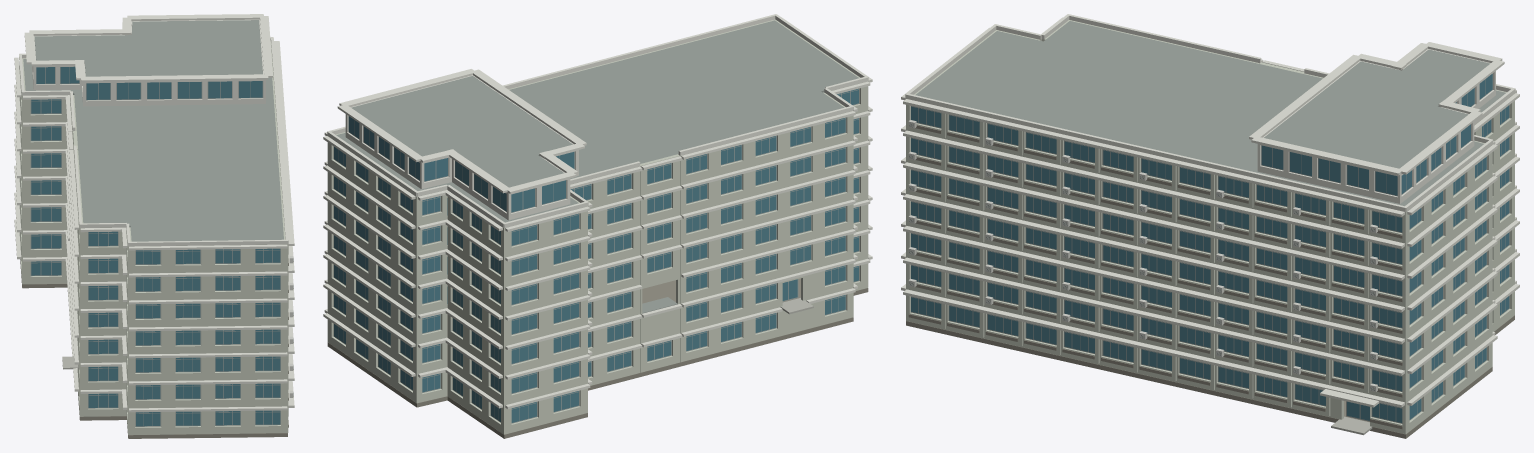
3 views of the same model, side by side, from view 1: azimuth 30°, elevation 25°; view 2: azimuth 150°, elevation 25°; view 3: azimuth 270°, elevation 25° (orthographic). The views are drawn at different scales.
Visible parts, largest first — view 1: main__roof, main__pier, main__white, main__glass, main__frame, main__spandrel; view 2: main__pier, main__roof, main__white, main__glass, main__frame, main__spandrel; view 3: main__pier, main__glass, main__roof, main__white, main__frame, main__spandrel, main__equipment, main__vent.
Boxes of the visible parts, x1=… form: main__roof: x1=23, y1=20, x2=283, y2=241; main__pier: x1=19, y1=42, x2=288, y2=434; main__white: x1=14, y1=14, x2=294, y2=412; main__glass: x1=31, y1=66, x2=280, y2=426; main__frame: x1=30, y1=67, x2=280, y2=426; main__spandrel: x1=20, y1=258, x2=288, y2=438; main__pier: x1=327, y1=19, x2=868, y2=434; main__roof: x1=336, y1=20, x2=858, y2=313; main__white: x1=323, y1=14, x2=872, y2=409; main__glass: x1=334, y1=88, x2=858, y2=422; main__frame: x1=333, y1=88, x2=859, y2=423; main__spandrel: x1=327, y1=278, x2=868, y2=438; main__pier: x1=906, y1=20, x2=1514, y2=434; main__glass: x1=911, y1=74, x2=1509, y2=422; main__roof: x1=915, y1=21, x2=1506, y2=206; main__white: x1=901, y1=14, x2=1519, y2=407; main__frame: x1=911, y1=73, x2=1509, y2=423; main__spandrel: x1=906, y1=125, x2=1514, y2=438; main__equipment: x1=908, y1=120, x2=1377, y2=391; main__vent: x1=909, y1=123, x2=1374, y2=390.
Size of the model in its own units: 45.51 by 27.94 by 60.
